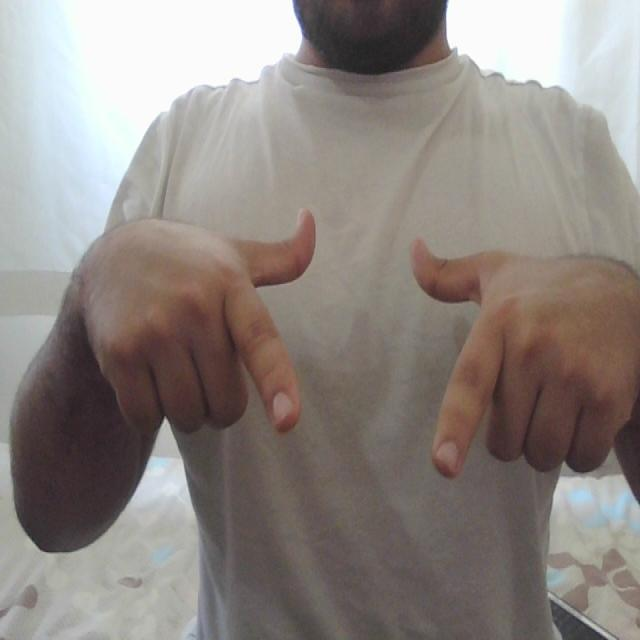Nerede: (214, 202, 520, 494)
